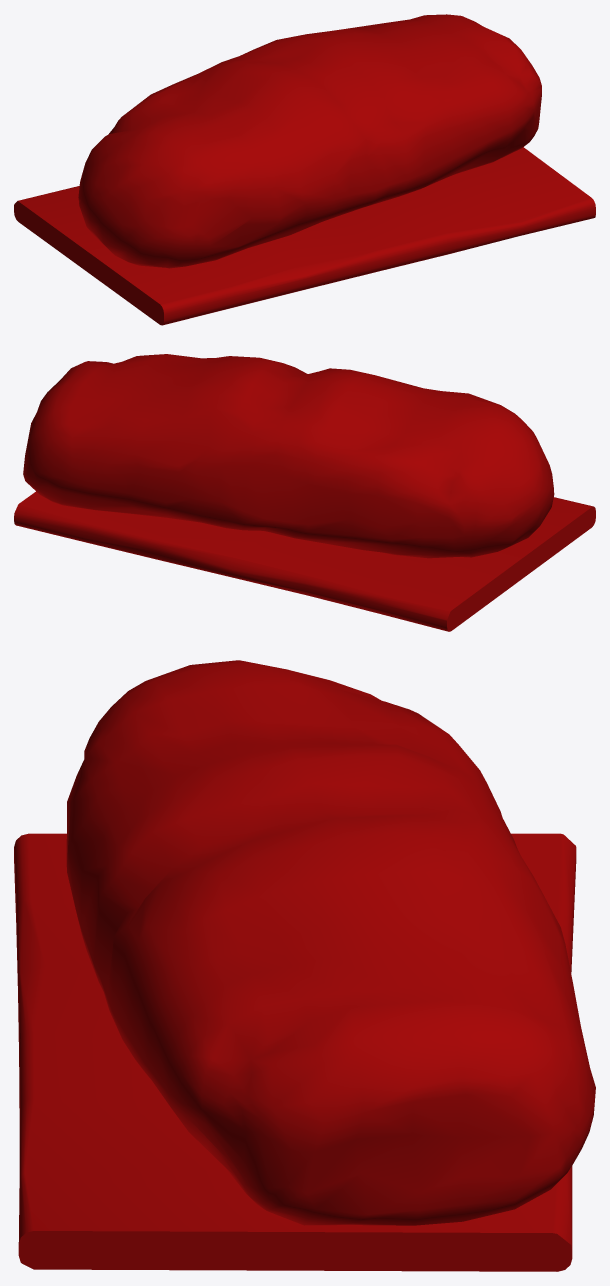
Rendered from SM_Bread_01.fbx.
3 views of the same model, one above another, from view 1: azimuth 30°, elevation 25°; view 2: azimuth 150°, elevation 25°; view 3: azimuth 270°, elevation 25° (orthographic). The views are drawn at different scales.
Parts seen in each view (by area): view 1: SM_Bread_01; view 2: SM_Bread_01; view 3: SM_Bread_01.
Boxes of the visible parts, <box> form: SM_Bread_01: <box>14,14,595,325</box>; SM_Bread_01: <box>14,354,595,631</box>; SM_Bread_01: <box>14,660,595,1271</box>.
Bounding box in the file's own units: 42.95 × 24.89 × 13.58.
